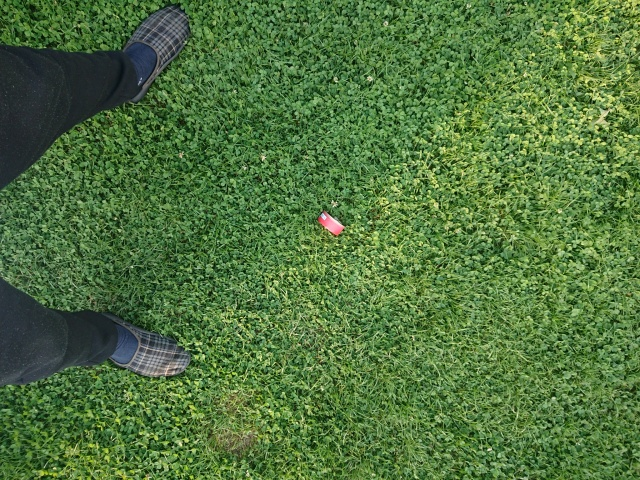Gavrilovic Pork Liver Pate 100g: (314, 208, 346, 236)
